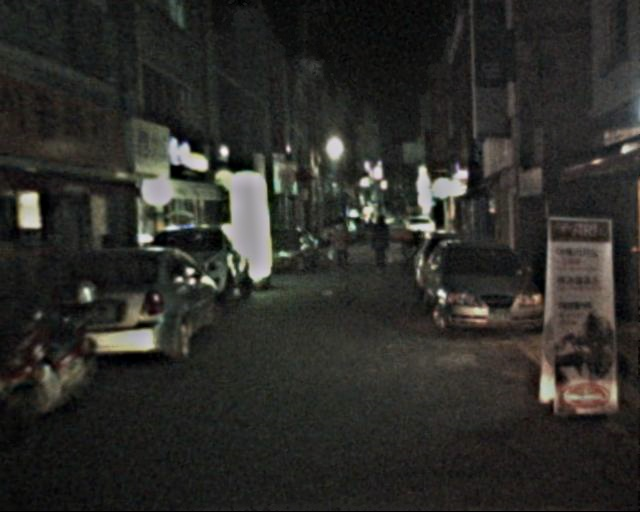person: (370, 214, 397, 279), (331, 219, 355, 278)
